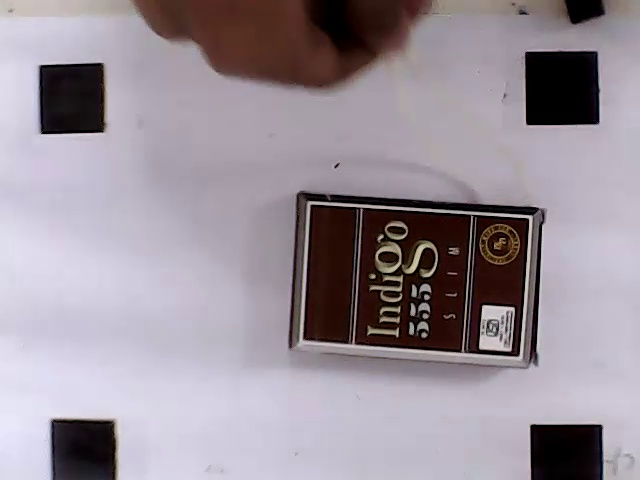BEX: (300, 201, 530, 359)
